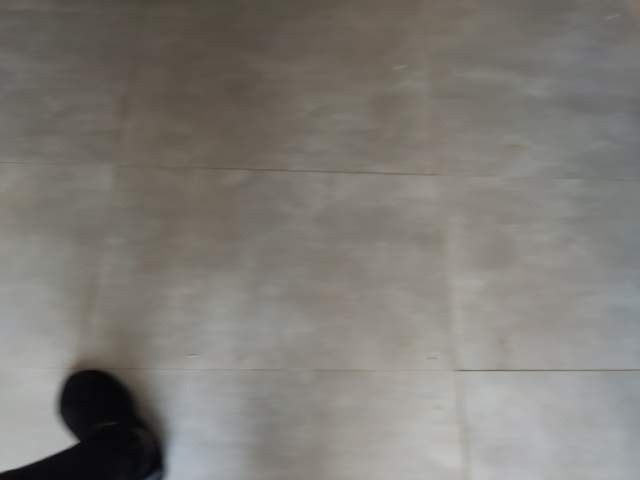pothole: (81, 422, 244, 480)
